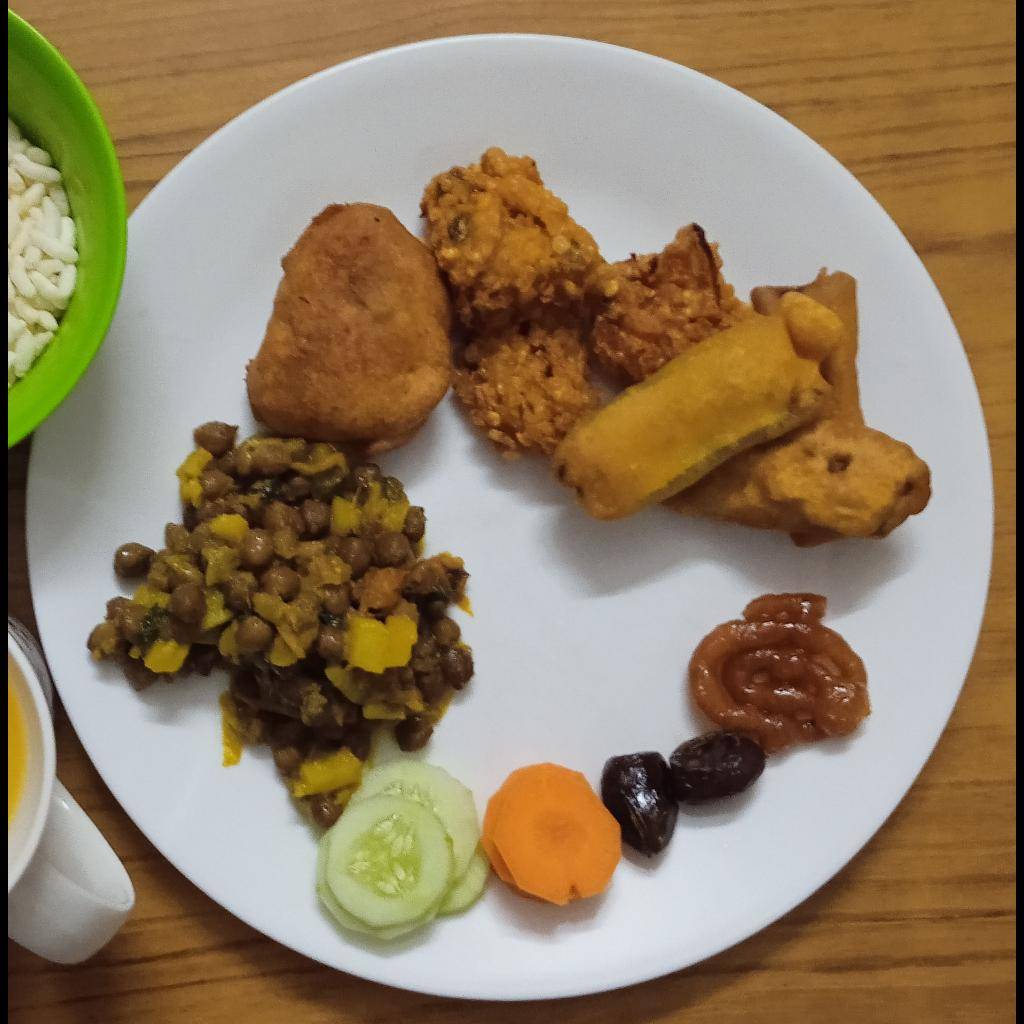beguni: (551, 264, 932, 547)
carrot: (483, 763, 623, 907)
chola: (87, 424, 477, 830)
chop-alu: (250, 205, 454, 455)
cucumber: (319, 732, 490, 943)
dates: (601, 729, 767, 858)
jilapi: (688, 593, 872, 757)
piyaju: (420, 149, 748, 464)
